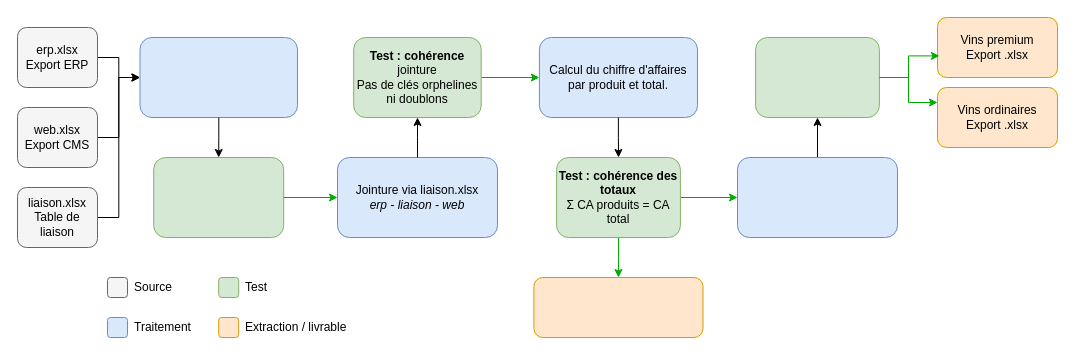
This 1075x355 diagram has some shape labels left out. Each missing label, with the centre of its shape:
Calcul z-score sur les prix des vins.: pixel 817 197
Export rapport .csv CA par produit + CA total: pixel 618 307
Nettoyage, dédoublonnage, suppression valeurs manquantes et clés uniques.: pixel 218 77
Test : unicité des clés Pas de valeurs nulles ni doublons: pixel 218 197
Test : validité des scores Bornes cohérentes appliquées: pixel 817 77
